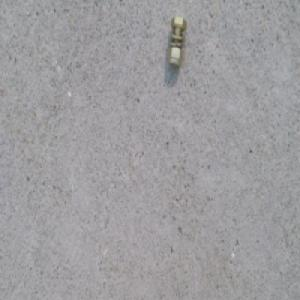BoltNutSet: (165, 16, 188, 65)
